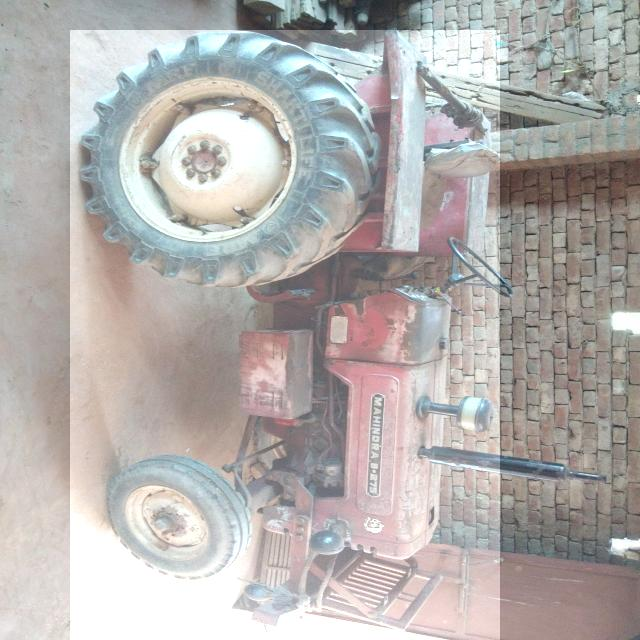Tractot: (70, 30, 500, 640)
